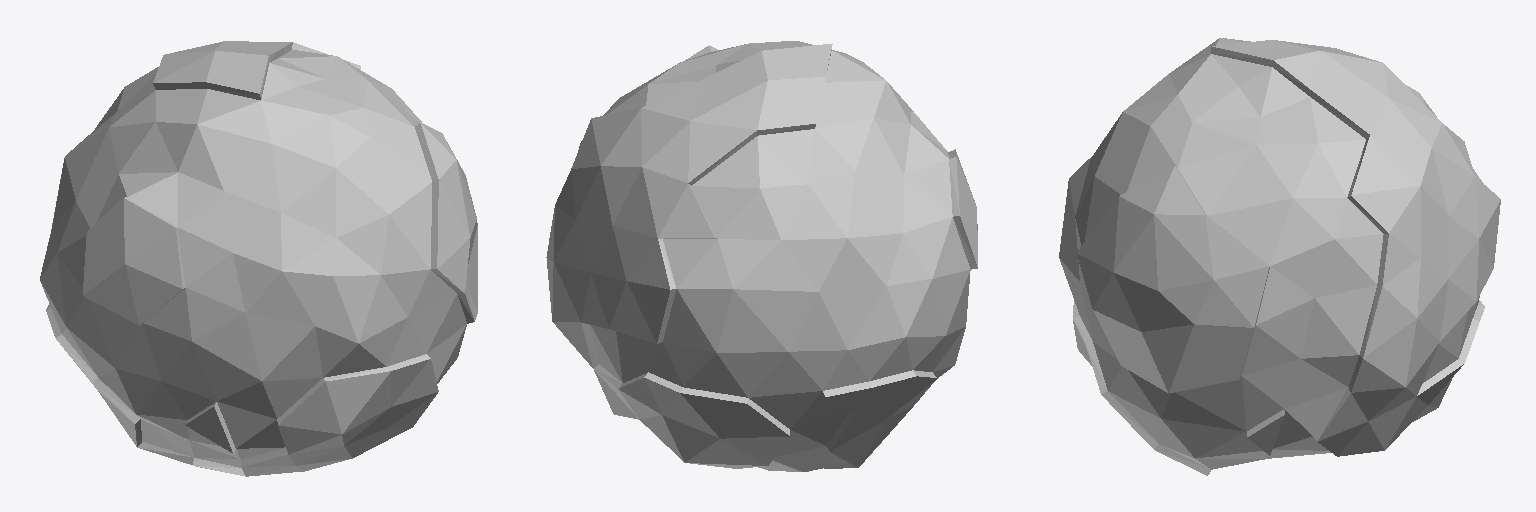
The model's file is earth.obj.
The picture shows the model from 3 angles: view 1: azimuth 30°, elevation 25°; view 2: azimuth 150°, elevation 25°; view 3: azimuth 270°, elevation 25°; orthographic projection.
Visible parts, largest first — view 1: Earth; view 2: Earth; view 3: Earth.
Boxes of the visible parts, box(x1,y1,x2,y2) form: Earth: box(40, 41, 477, 476); Earth: box(546, 41, 977, 471); Earth: box(1059, 38, 1500, 475).
Size of the model in its own units: 2.04 by 2.04 by 2.04.